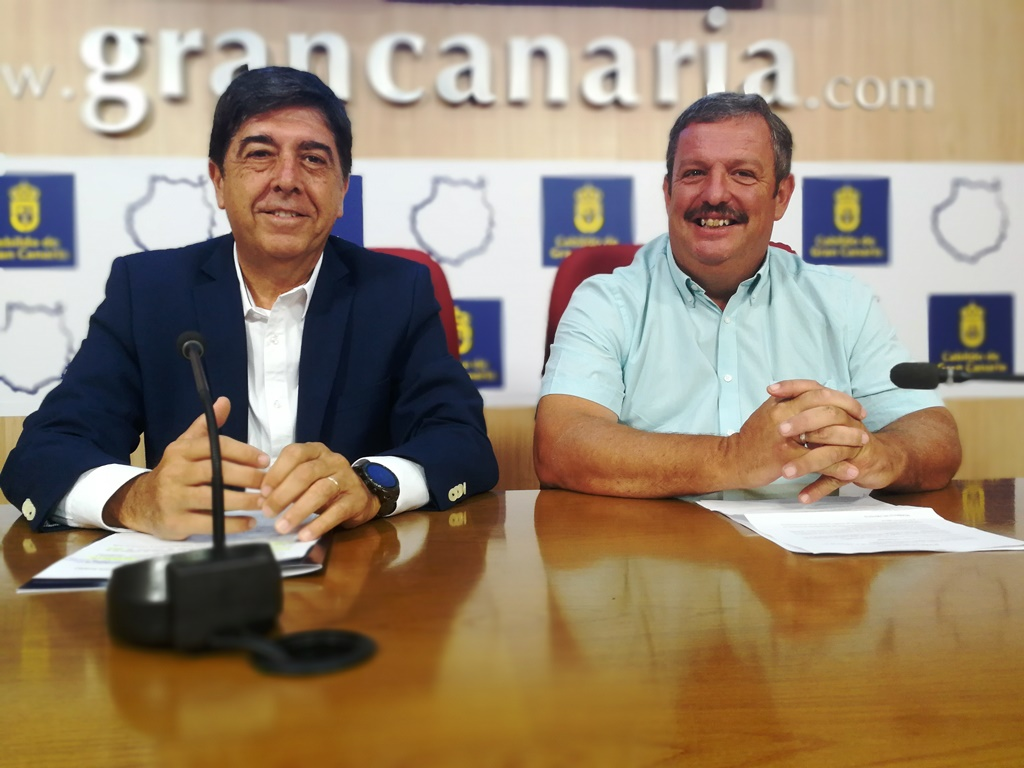person: (584, 98, 891, 390), (142, 85, 412, 379)
